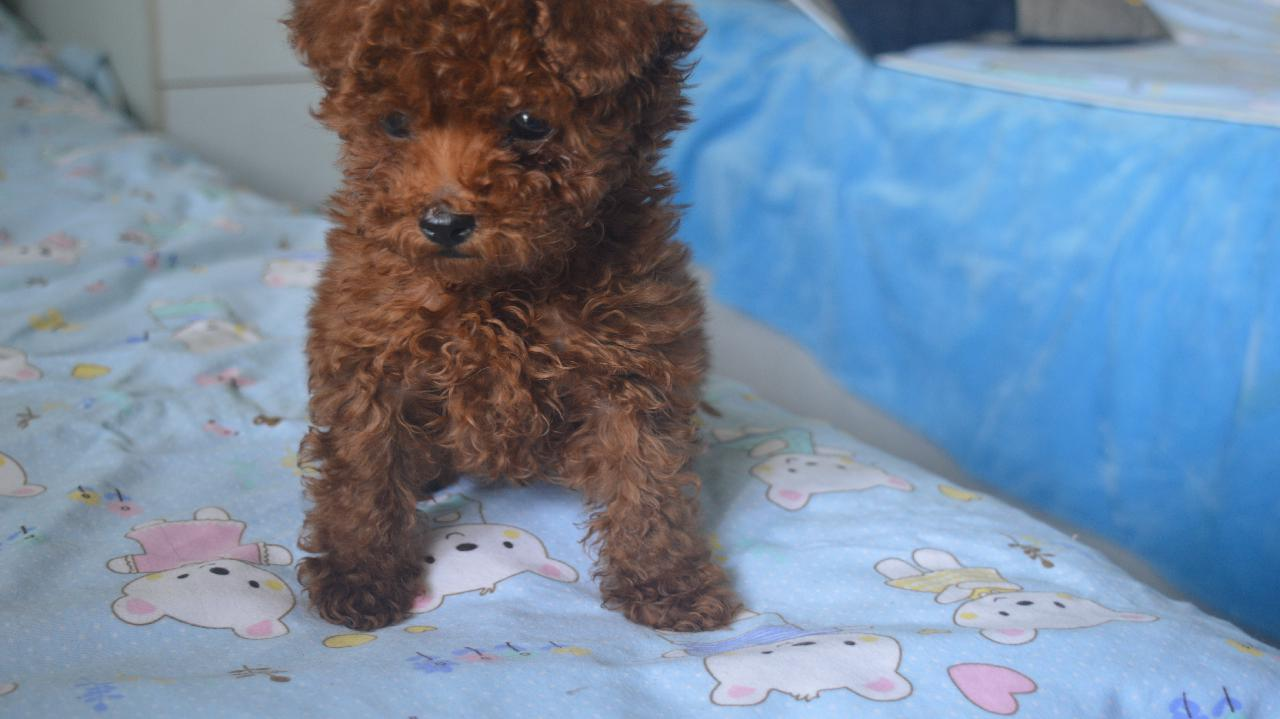coin: (276, 3, 759, 642)
